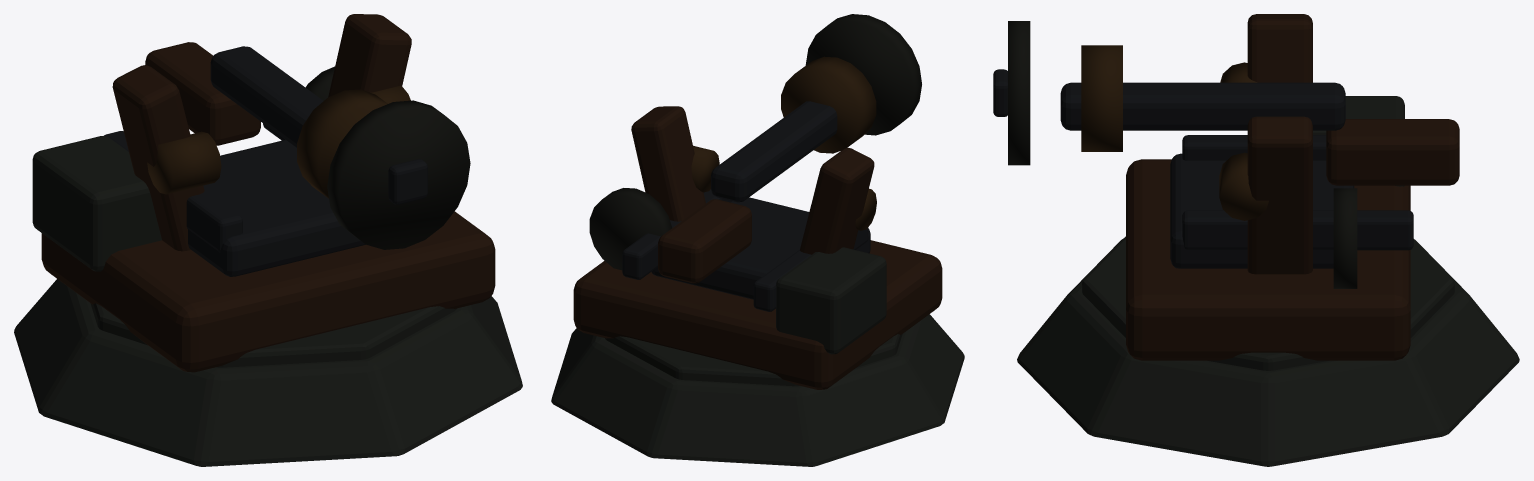
Rendered from TowerBounce2_pose.obj.
The picture shows the model from 3 angles, left to right: view 1: azimuth 30°, elevation 25°; view 2: azimuth 150°, elevation 25°; view 3: azimuth 270°, elevation 25°; orthographic projection. The views are drawn at different scales.
Parts seen in each view (by area): view 1: cut_stone_socket_lower_course, heavy_oak_table, throwing_disc, iron_swivel, stone_ammunition_chest, oak_throwing_cheek, cut_stone_socket_upper_course, iron_throw_arm, counterweight_beam, oak_throwing_cheek.001, bronze_sling_drum, bronze_pivot_pin (+3 smaller); view 2: cut_stone_socket_lower_course, heavy_oak_table, stone_ammunition_chest, throwing_disc, iron_throw_arm, oak_throwing_cheek.001, counterweight_beam, iron_swivel, bronze_sling_drum, oak_throwing_cheek, cut_stone_socket_upper_course, reserve_disc (+4 smaller); view 3: cut_stone_socket_lower_course, heavy_oak_table, iron_throw_arm, oak_throwing_cheek.001, counterweight_beam, cut_stone_socket_upper_course, iron_swivel, iron_stabiliser.001, bronze_sling_drum, oak_throwing_cheek, throwing_disc, reserve_disc (+4 smaller).
Part boxes in pixels (x1,y1,x2,y2): cut_stone_socket_lower_course: (14,279,522,466); heavy_oak_table: (41,211,495,372); throwing_disc: (327,100,470,249); iron_swivel: (188,140,365,276); stone_ammunition_chest: (32,136,161,271); oak_throwing_cheek: (112,65,204,251); cut_stone_socket_upper_course: (90,303,456,367); iron_throw_arm: (210,46,323,147); counterweight_beam: (145,42,260,145); oak_throwing_cheek.001: (328,14,411,97); bronze_sling_drum: (297,89,387,198); bronze_pivot_pin: (147,131,221,194); cut_stone_socket_lower_course: (551,314,964,466); heavy_oak_table: (573,240,942,389); stone_ammunition_chest: (776,247,886,354); throwing_disc: (805,14,921,135); iron_throw_arm: (711,101,837,202); oak_throwing_cheek.001: (631,106,705,221); counterweight_beam: (658,199,751,283); iron_swivel: (651,197,870,299); bronze_sling_drum: (781,56,876,153); oak_throwing_cheek: (800,147,874,254); cut_stone_socket_upper_course: (605,334,902,386); reserve_disc: (589,188,672,270); cut_stone_socket_lower_course: (1017,238,1519,466); heavy_oak_table: (1126,159,1410,360); iron_throw_arm: (1060,82,1345,130); oak_throwing_cheek.001: (1247,116,1312,274); counterweight_beam: (1326,119,1459,185); cut_stone_socket_upper_course: (1082,236,1454,370); iron_swivel: (1170,153,1354,268); iron_stabiliser.001: (1182,210,1413,250); bronze_sling_drum: (1081,45,1122,151); oak_throwing_cheek: (1247,14,1312,82); throwing_disc: (1008,21,1030,165); reserve_disc: (1333,188,1357,288).
Bounding box in the file's own units: 1.69 × 1.25 × 1.77.
